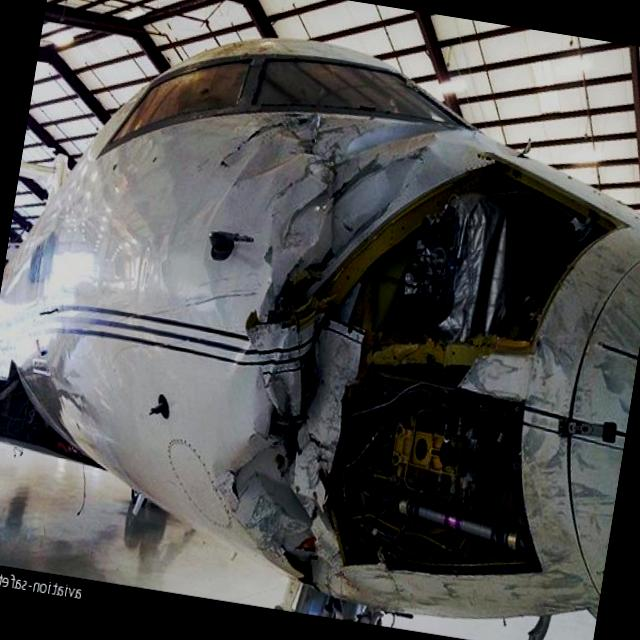crack: (215, 106, 307, 184), (218, 441, 268, 510)
